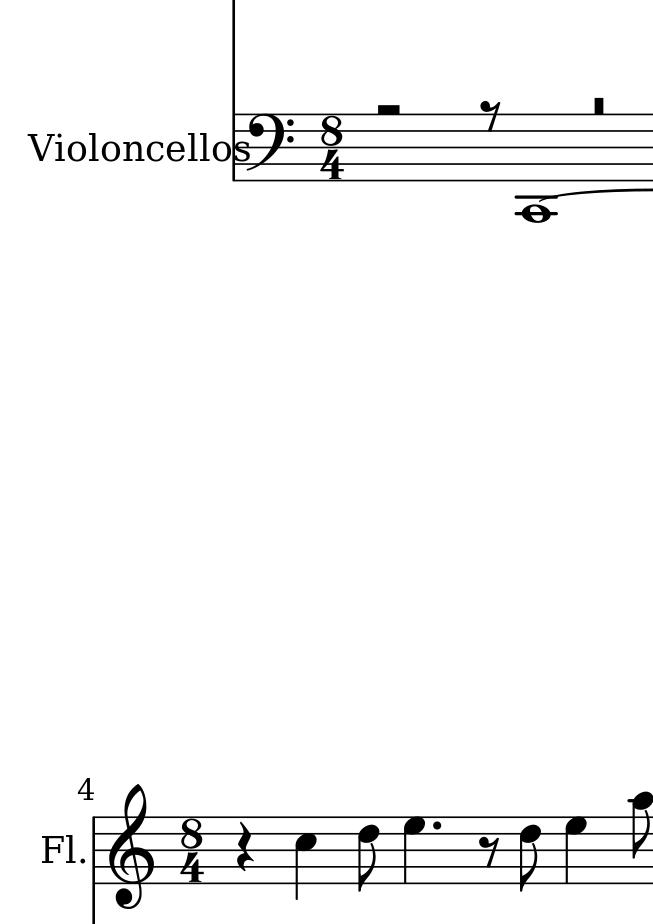1_-4: (517, 112, 555, 225)
4: (176, 849, 207, 883), (318, 146, 346, 181), (77, 775, 95, 803)
4_5: (292, 815, 318, 901)
4_7: (401, 816, 426, 886), (563, 815, 588, 885)
8: (179, 815, 205, 851), (319, 112, 344, 147)
8_10: (628, 791, 652, 886)
8_6: (354, 815, 381, 894), (516, 815, 542, 894)
Fclef: (246, 112, 293, 182)
Fl: (39, 830, 78, 869)
Gclef: (106, 783, 157, 911)
Rests2: (372, 100, 405, 119)
Rests4: (233, 820, 254, 875)
Rests8: (477, 834, 501, 870), (478, 97, 502, 132)
Single_barline: (227, 113, 245, 181), (89, 813, 101, 886)
TimeSig: (318, 113, 345, 181), (178, 816, 205, 884)
dot: (430, 818, 443, 832)
